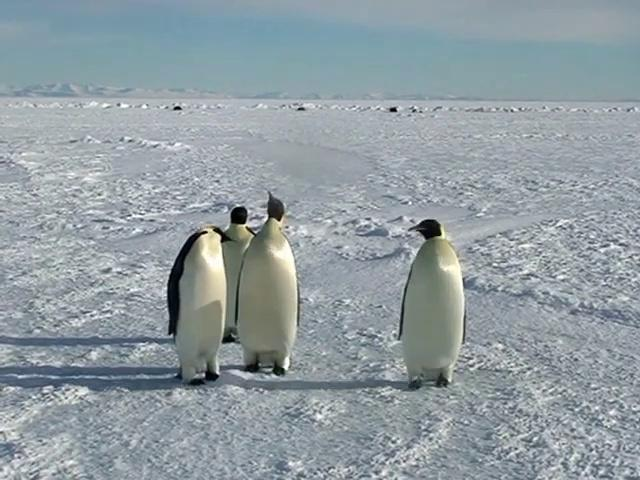animal: (400, 220, 466, 389)
